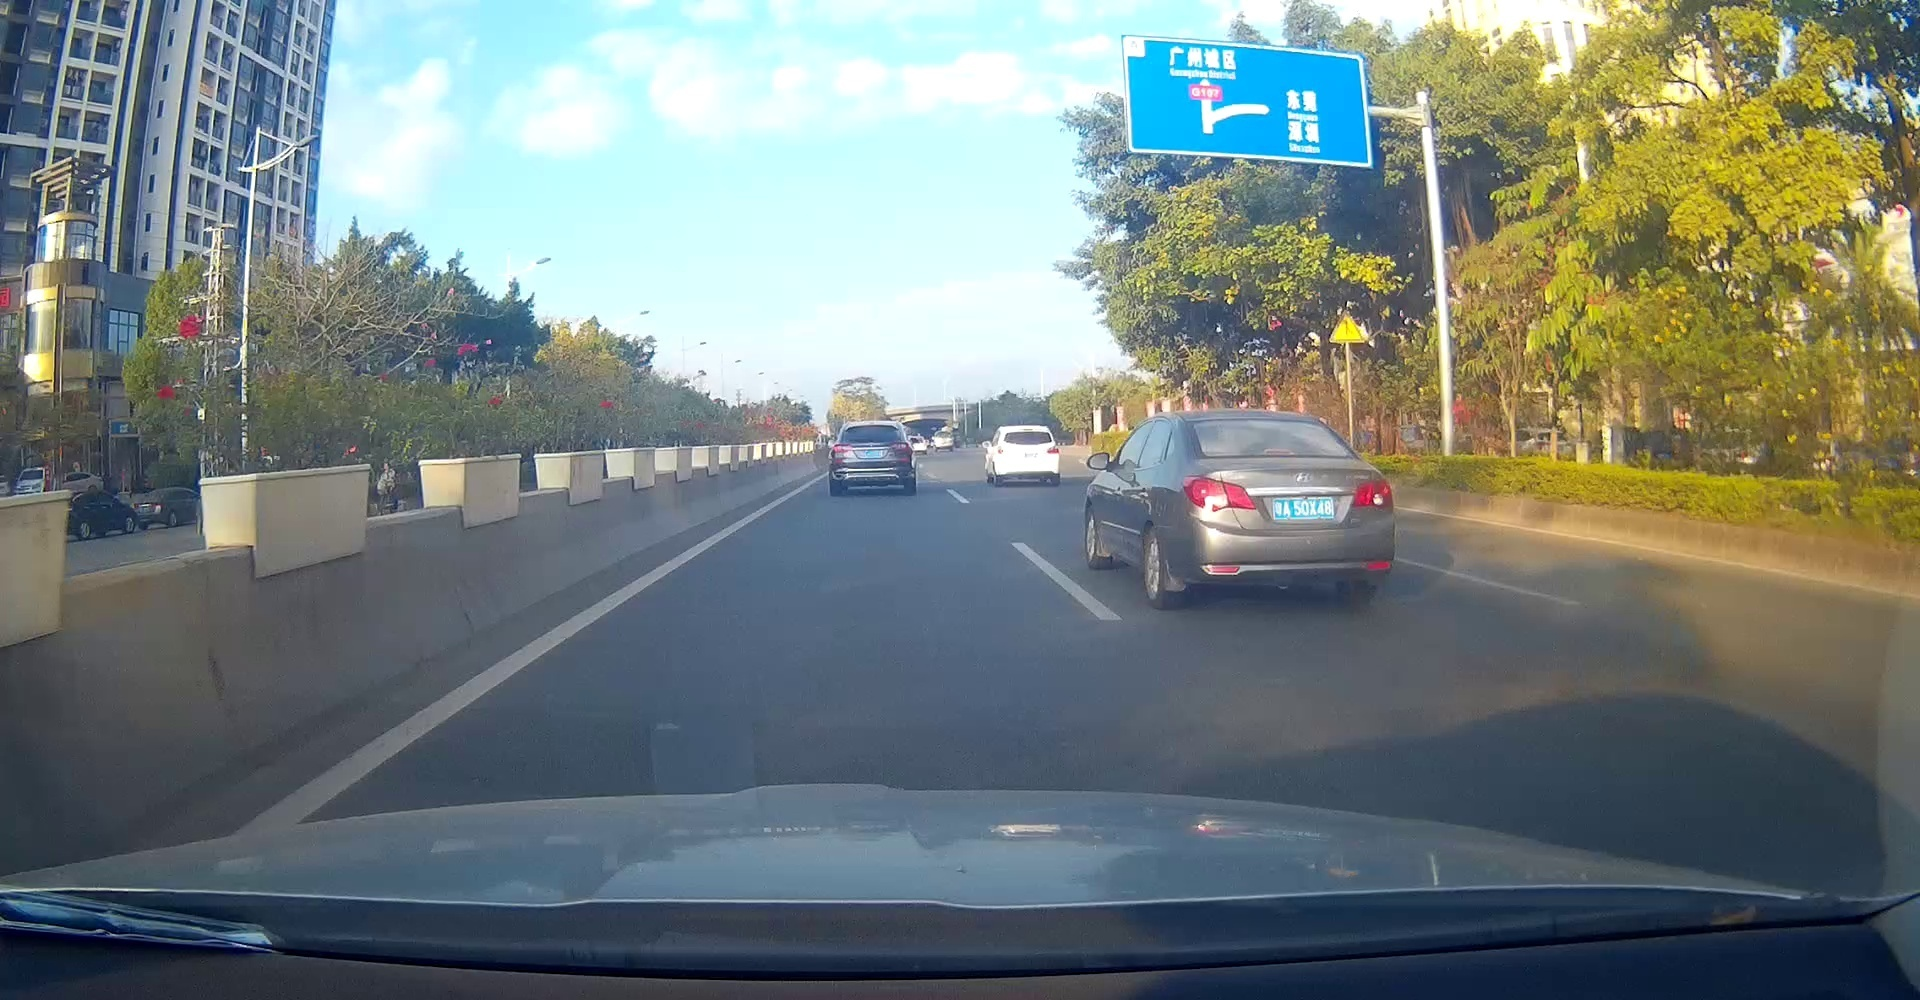L_light: (1182, 476, 1257, 511), (832, 444, 852, 452), (997, 448, 1015, 456)
R_light: (1351, 478, 1394, 509), (890, 442, 910, 451), (1046, 445, 1059, 454)
T_light: (1178, 409, 1396, 610), (1263, 448, 1295, 456), (863, 425, 877, 428)
day-no: (827, 420, 914, 497), (996, 425, 1059, 489), (1021, 429, 1035, 431)
